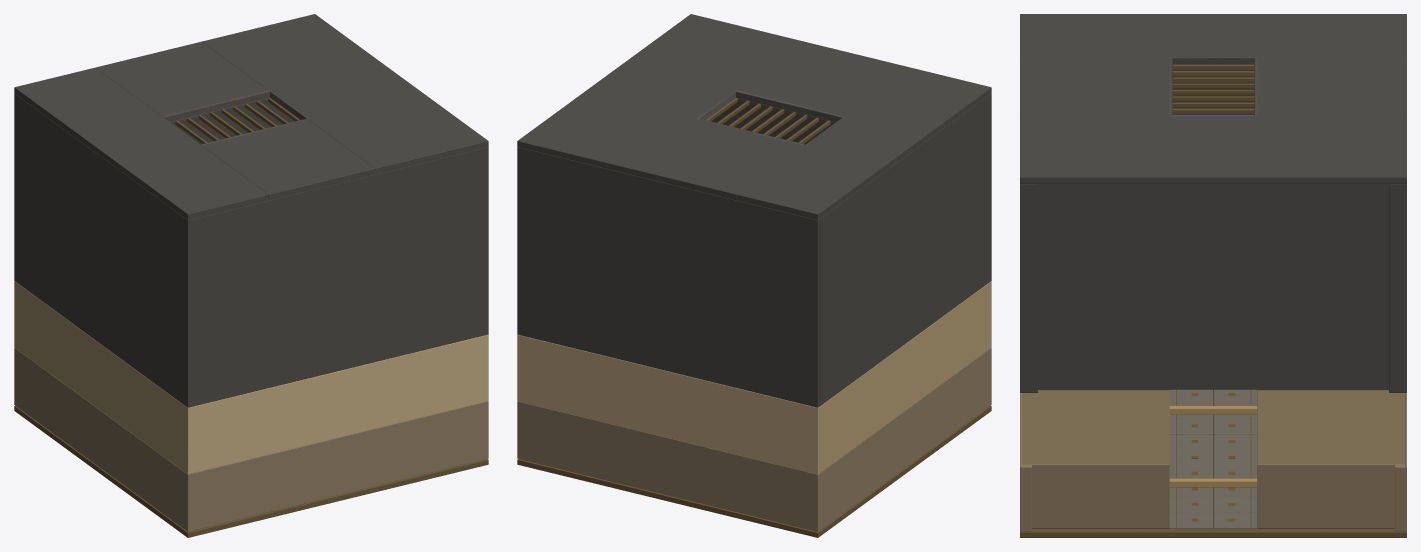
File: magazine.glb
3 renders of one model, left to right at view 1: azimuth 30°, elevation 25°; view 2: azimuth 150°, elevation 25°; view 3: azimuth 270°, elevation 25°, orthographic. The views are drawn at different scales.
Parts seen in each view (by area): view 1: MAGAZINE; view 2: MAGAZINE; view 3: MAGAZINE.
Part boxes in pixels (x1=…): MAGAZINE: x1=14, y1=14, x2=488, y2=537; MAGAZINE: x1=517, y1=14, x2=991, y2=537; MAGAZINE: x1=1020, y1=14, x2=1406, y2=537.
Size of the model in its own units: 5.2 by 5.35 by 5.2.
